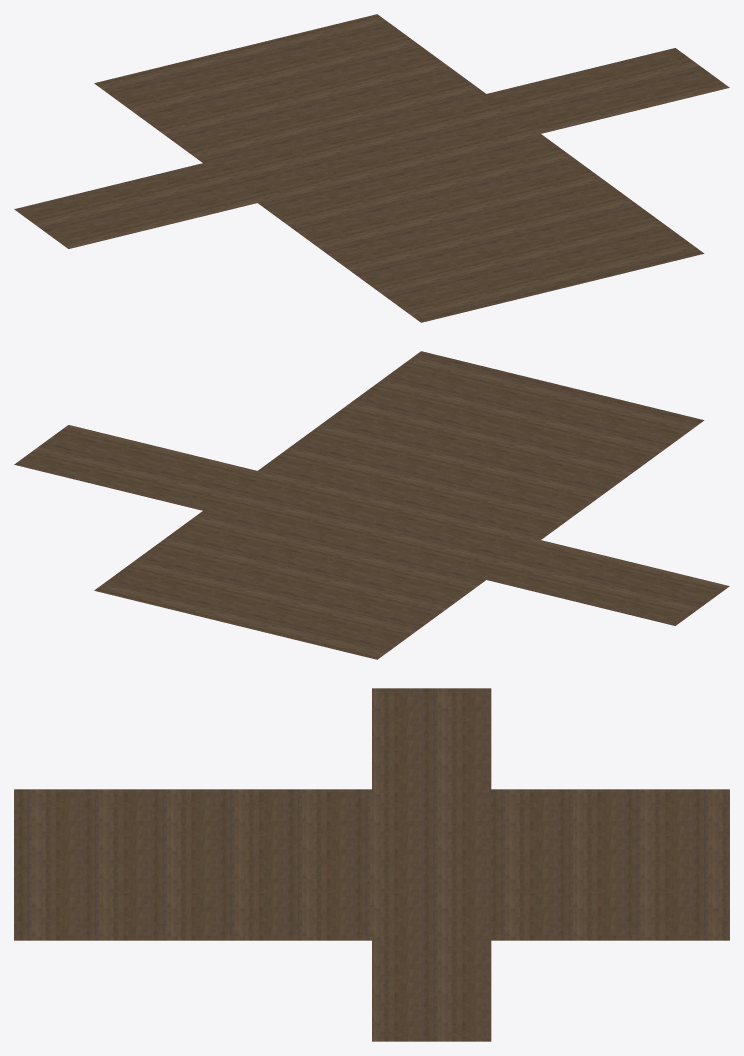
Rendered from Homeworld_Interior_Dq_Room_C_Floor_01_Vo.fbx.
The picture shows the model from 3 angles, top to bottom: view 1: azimuth 30°, elevation 25°; view 2: azimuth 150°, elevation 25°; view 3: azimuth 270°, elevation 25°; orthographic projection. The views are drawn at different scales.
Visible parts, largest first — view 1: Homeworld_Interior_Dq_Room_C_Floor_01_Vo; view 2: Homeworld_Interior_Dq_Room_C_Floor_01_Vo; view 3: Homeworld_Interior_Dq_Room_C_Floor_01_Vo.
Part boxes in pixels (x1=…): Homeworld_Interior_Dq_Room_C_Floor_01_Vo: x1=14, y1=14, x2=729, y2=322; Homeworld_Interior_Dq_Room_C_Floor_01_Vo: x1=14, y1=351, x2=729, y2=659; Homeworld_Interior_Dq_Room_C_Floor_01_Vo: x1=14, y1=688, x2=729, y2=1041.
Bounding box in the file's own units: 35 × 1.31e-06 × 30.
